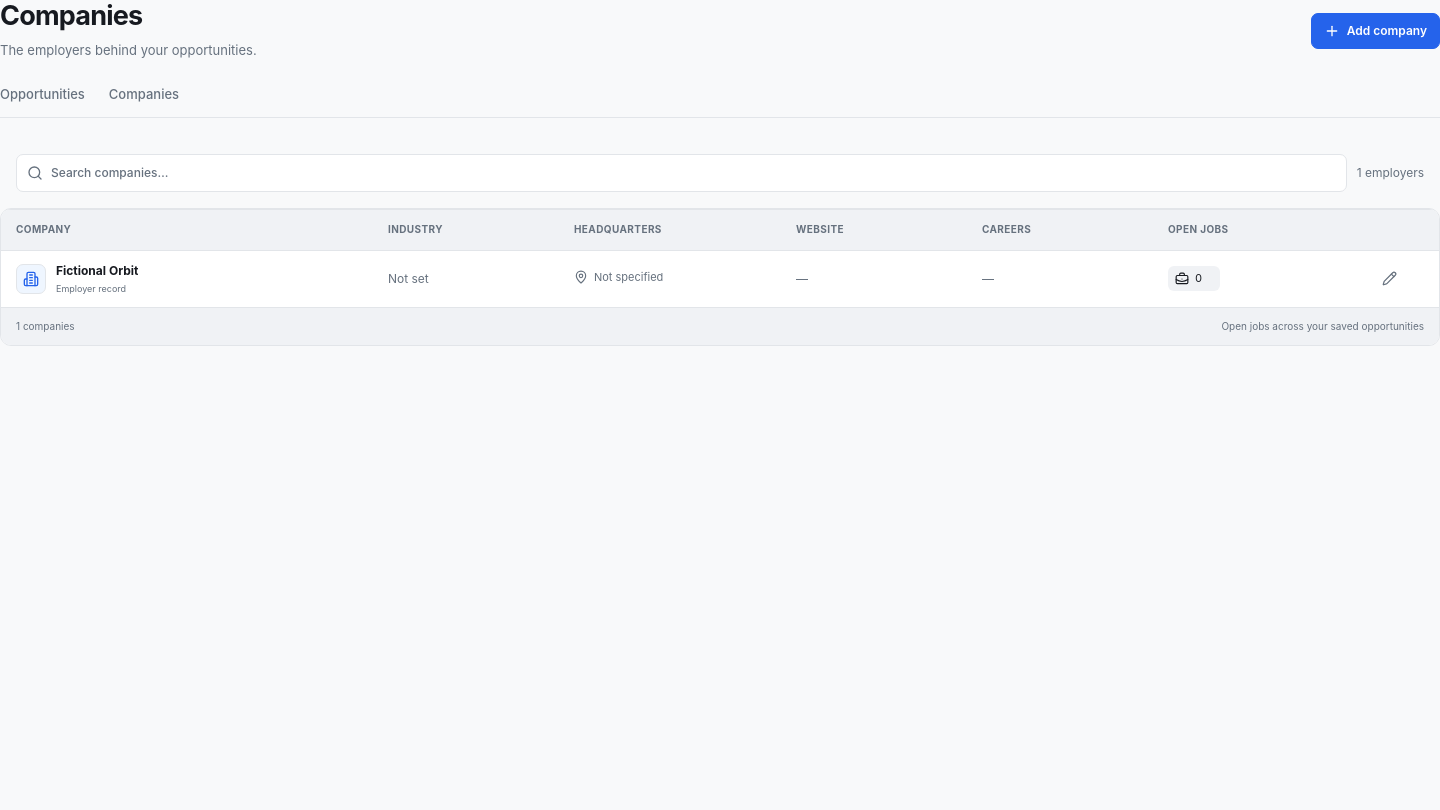
Test case: keeps company editing contextual and writes through the existing API
Step 1. Click the button named "Edit Fictional Orbit" → (1389, 279), box [1368,261,1410,297]
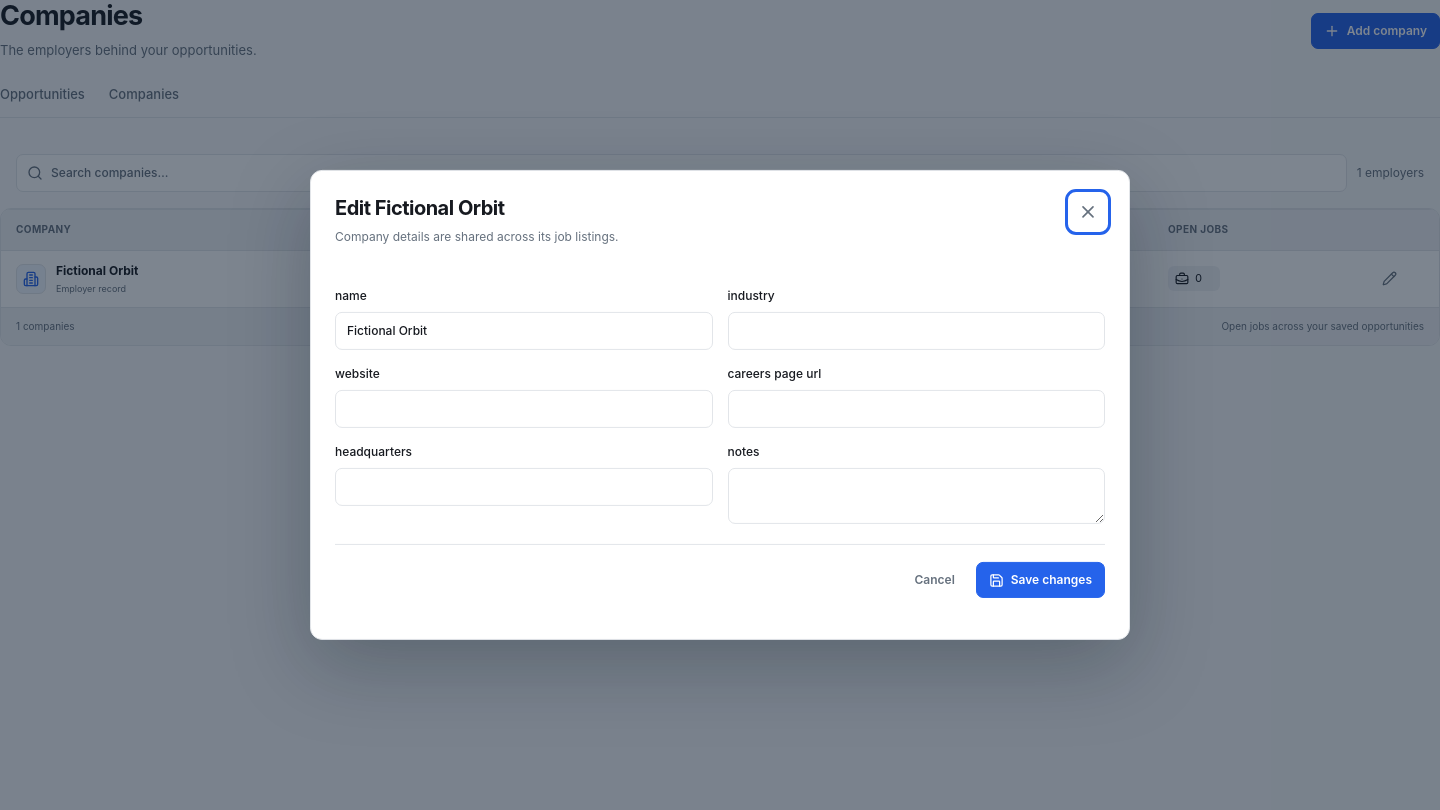
Step 2. Type "Research" into the field labelled "industry" → (916, 331), box [728,312,1105,350]
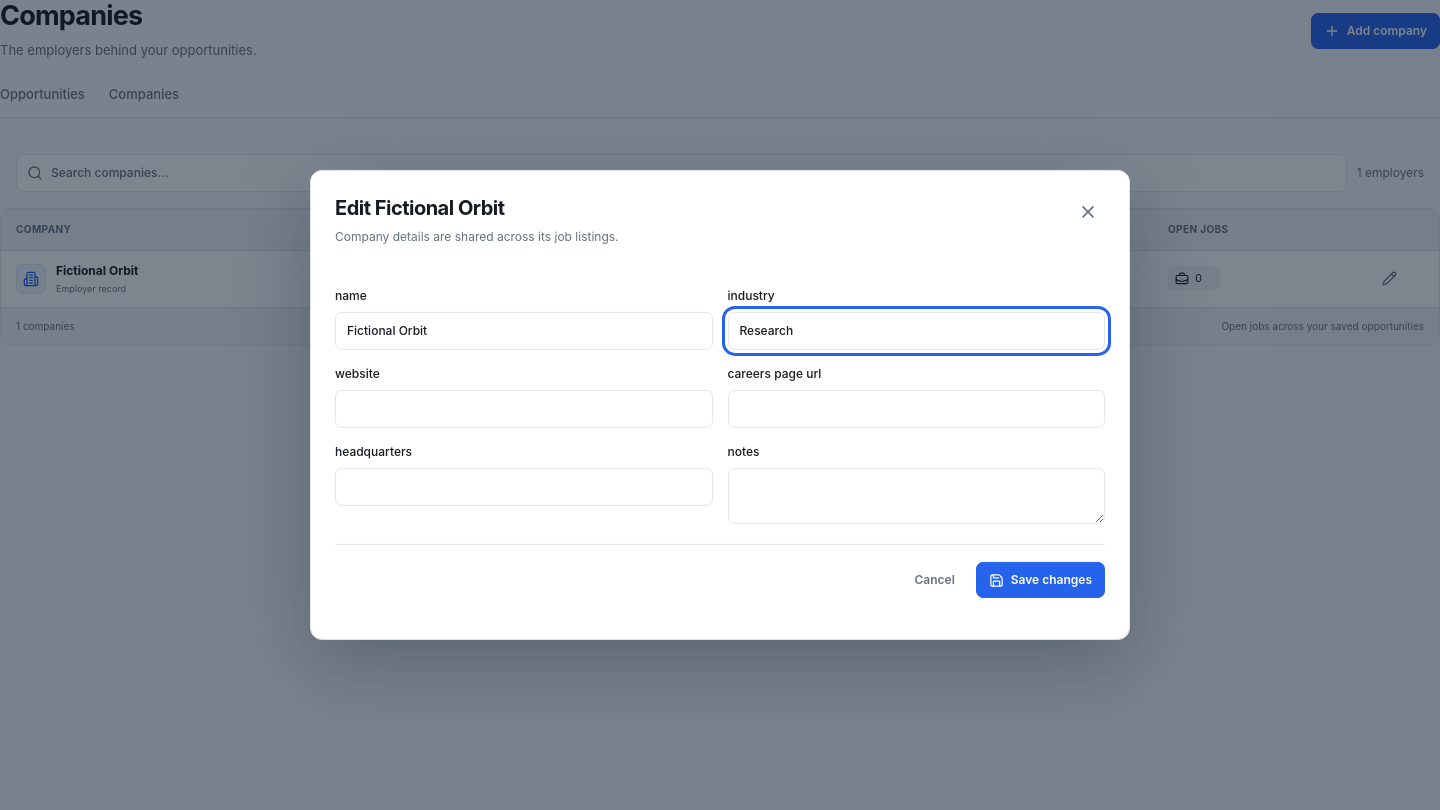
Step 3. Click the button "Save changes" → (1040, 580), box [976,562,1105,598]
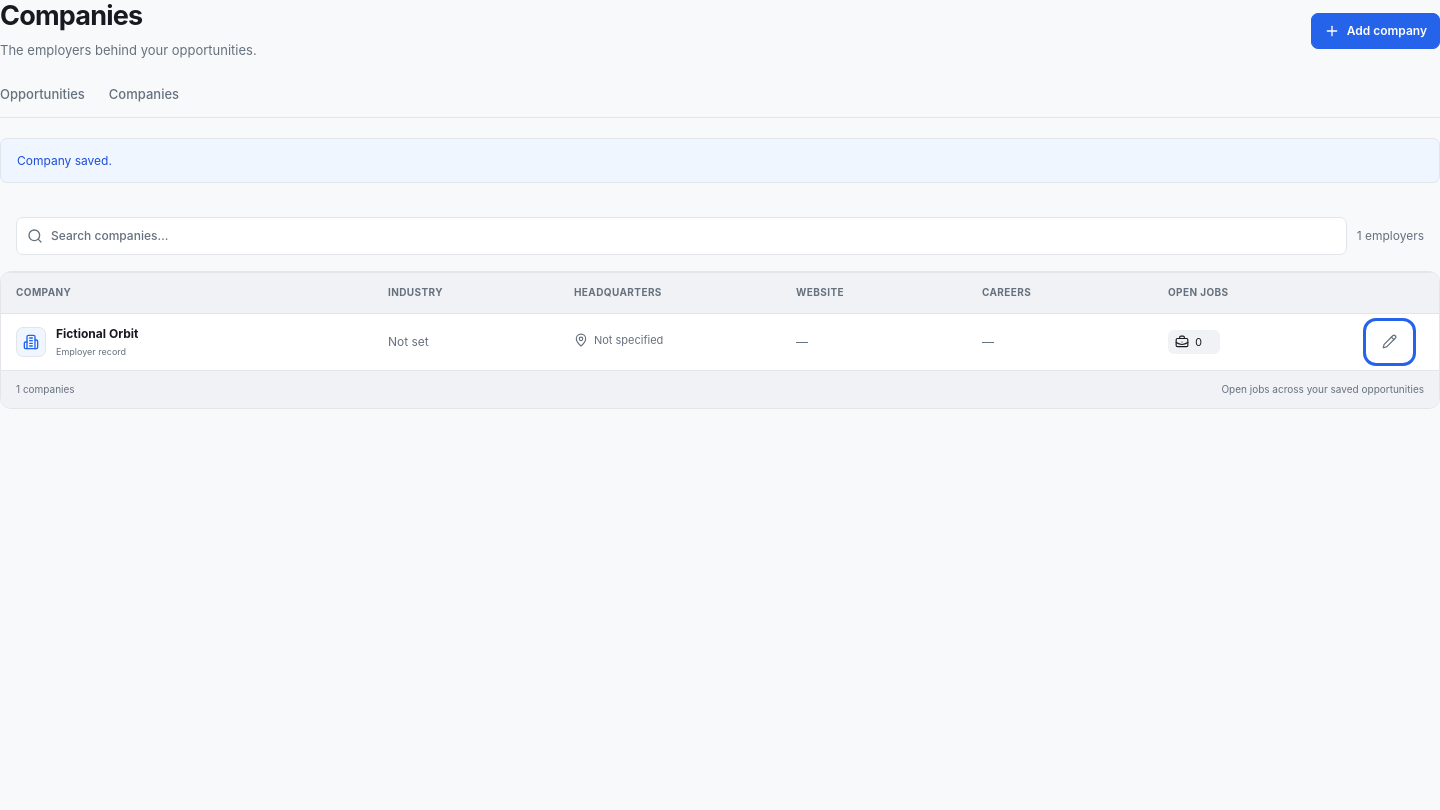
expect the dialog is gone: met
